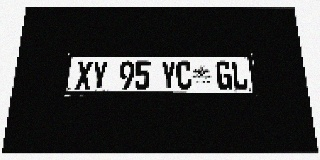5: (135, 61, 150, 90)
9: (119, 61, 135, 90)
C: (176, 61, 192, 90)
G: (216, 61, 233, 90)
L: (231, 61, 248, 90)
X: (75, 61, 93, 90)
Y: (91, 61, 108, 90), (161, 61, 176, 90)
